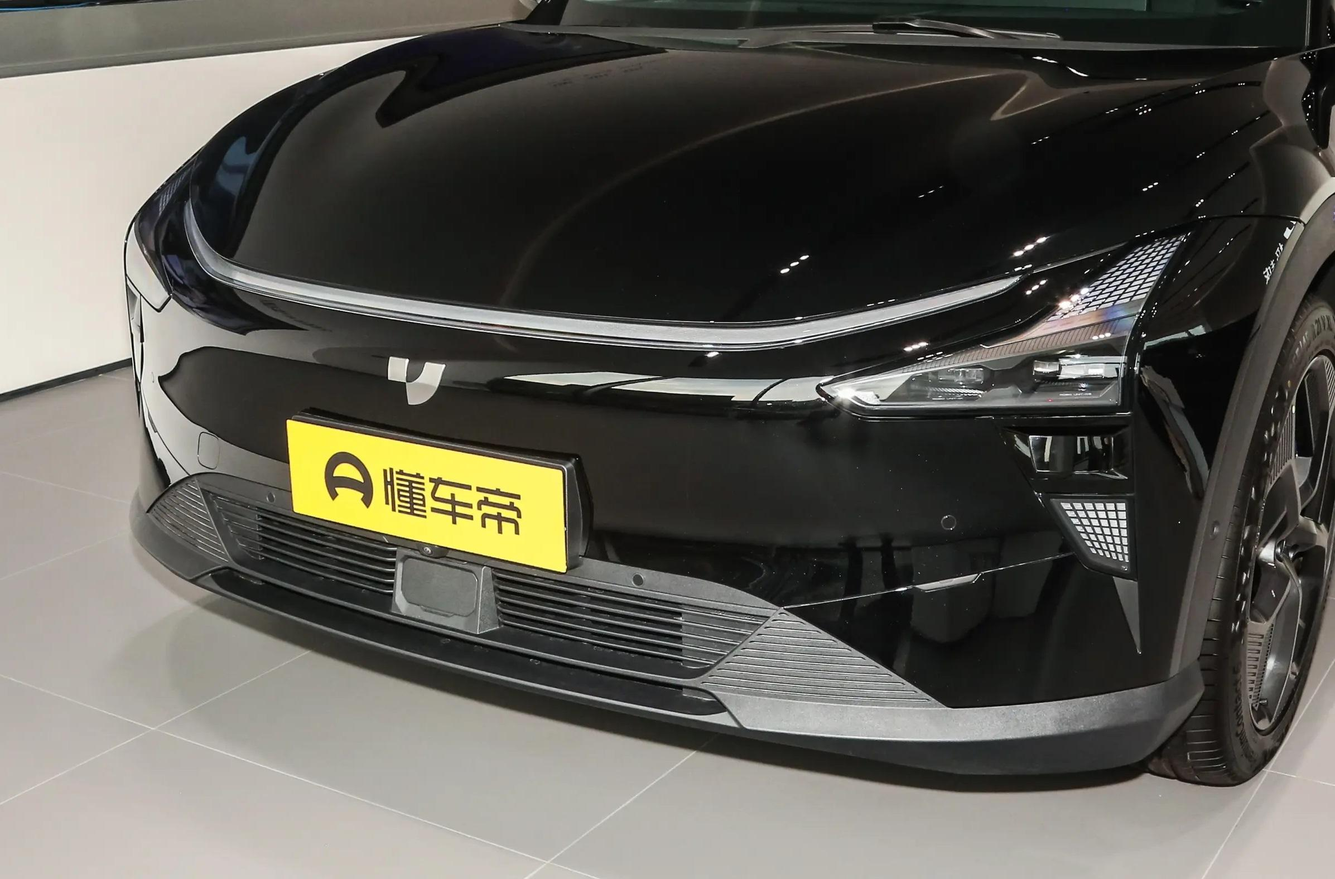JIYUE: (387, 355, 446, 406)
